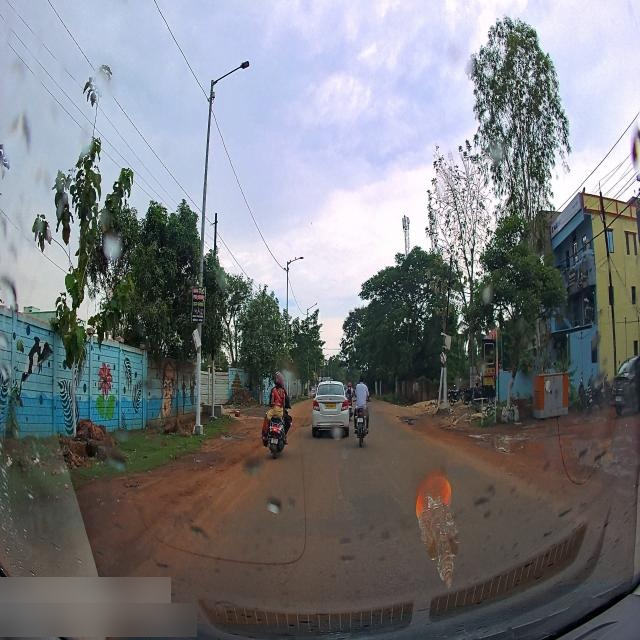pothole: (504, 432, 543, 459), (472, 428, 497, 442)
